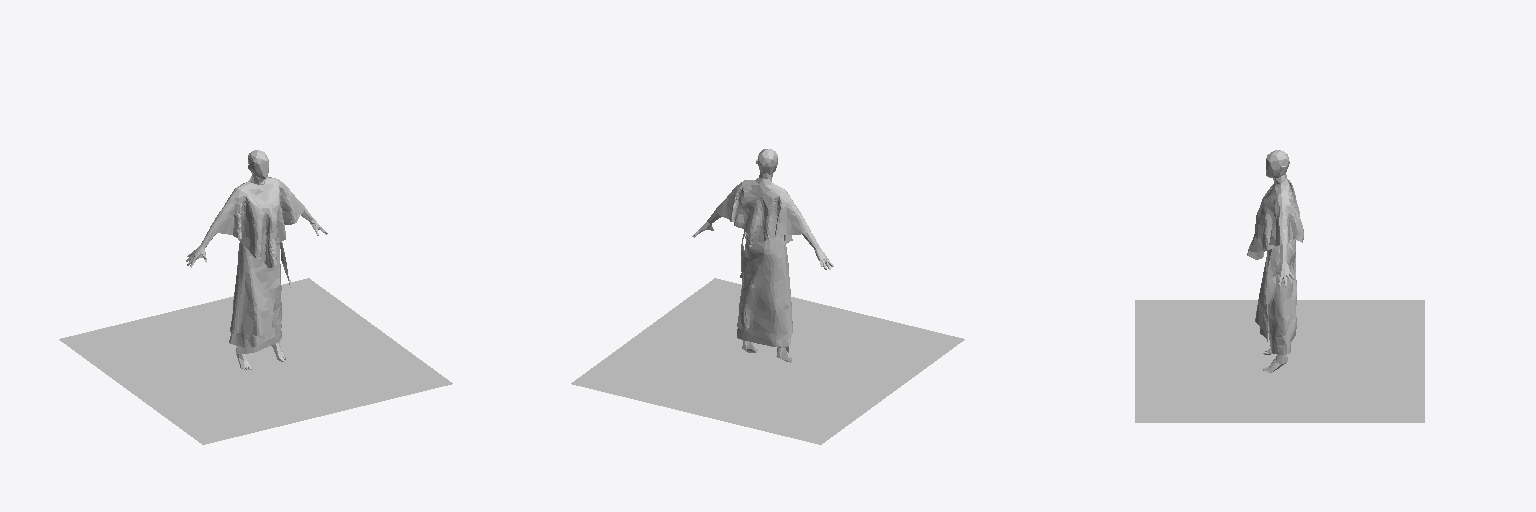
File: wave4.obj
3 views of the same model, side by side, from view 1: azimuth 30°, elevation 25°; view 2: azimuth 150°, elevation 25°; view 3: azimuth 270°, elevation 25° (orthographic).
Visible parts, largest first — view 1: Plane, TrajeTipico, Maniqui; view 2: Plane, TrajeTipico, Maniqui; view 3: Plane, TrajeTipico, Maniqui.
Part boxes in pixels (left/top/right/bottom): Plane: left=59, top=278, right=452, bottom=444; TrajeTipico: left=210, top=177, right=304, bottom=353; Maniqui: left=186, top=150, right=327, bottom=369; Plane: left=571, top=278, right=964, bottom=444; TrajeTipico: left=716, top=180, right=810, bottom=352; Maniqui: left=692, top=149, right=833, bottom=362; Plane: left=1135, top=300, right=1424, bottom=422; TrajeTipico: left=1247, top=179, right=1303, bottom=354; Maniqui: left=1263, top=150, right=1294, bottom=372.
Size of the model in its own units: 235 by 190 by 235.